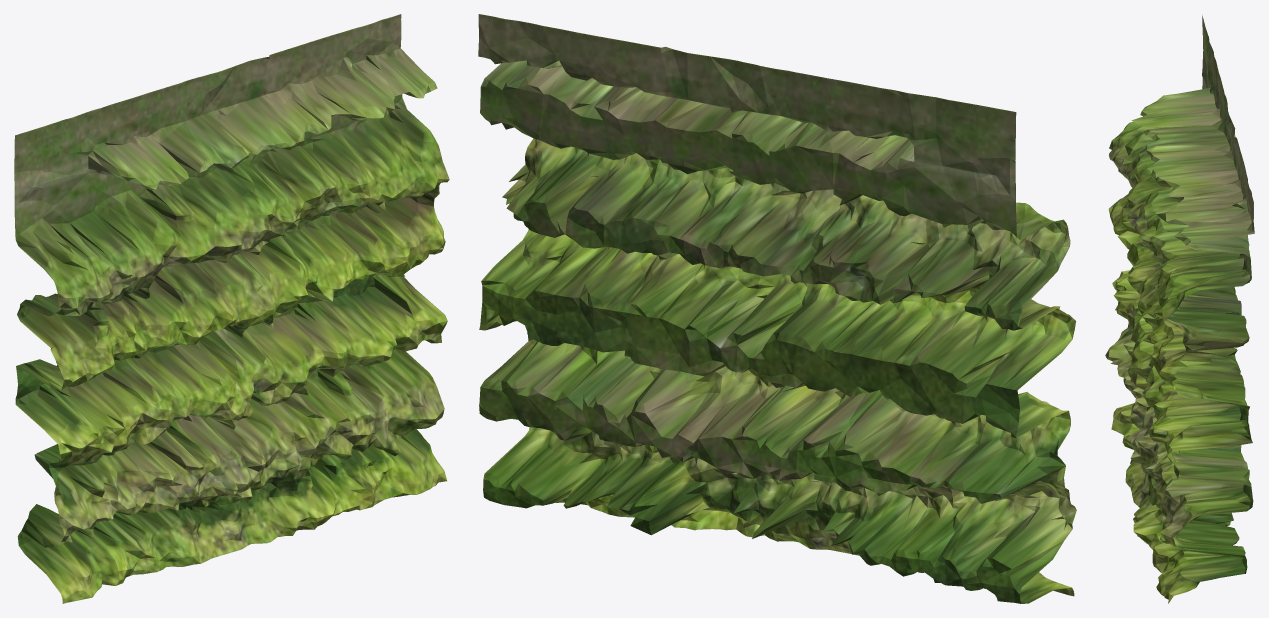
File: map_50_30.obj
The picture shows the model from 3 angles, left to right: view 1: azimuth 30°, elevation 25°; view 2: azimuth 150°, elevation 25°; view 3: azimuth 270°, elevation 25°; orthographic projection. The views are drawn at different scales.
Parts seen in each view (by area): view 1: grp1; view 2: grp1; view 3: grp1.
Part boxes in pixels (x1,y1,x2,y2): grp1: [14, 14, 449, 603]; grp1: [478, 14, 1076, 603]; grp1: [1105, 15, 1254, 603].
Bounding box in the file's own units: 10 × 10 × 3.37.
1 material, 1 textured.
